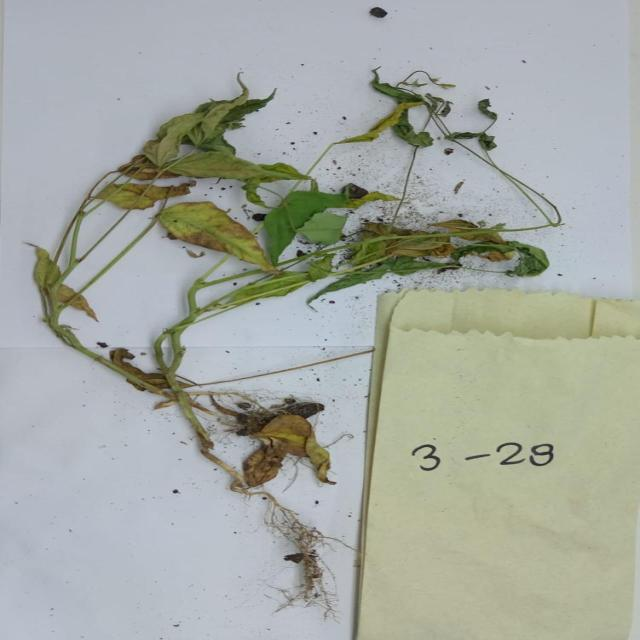Root: (181, 448, 356, 624), (211, 380, 320, 437)
Stem: (25, 310, 202, 407)
healty_leaves: (220, 186, 400, 268)
rooten_leaf: (13, 176, 275, 298), (85, 102, 264, 174), (367, 190, 541, 254)
